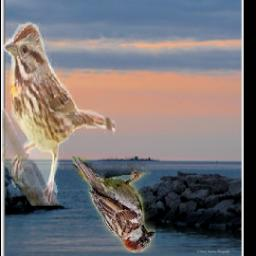Sparrow: (3, 20, 118, 206), (72, 156, 155, 253)
